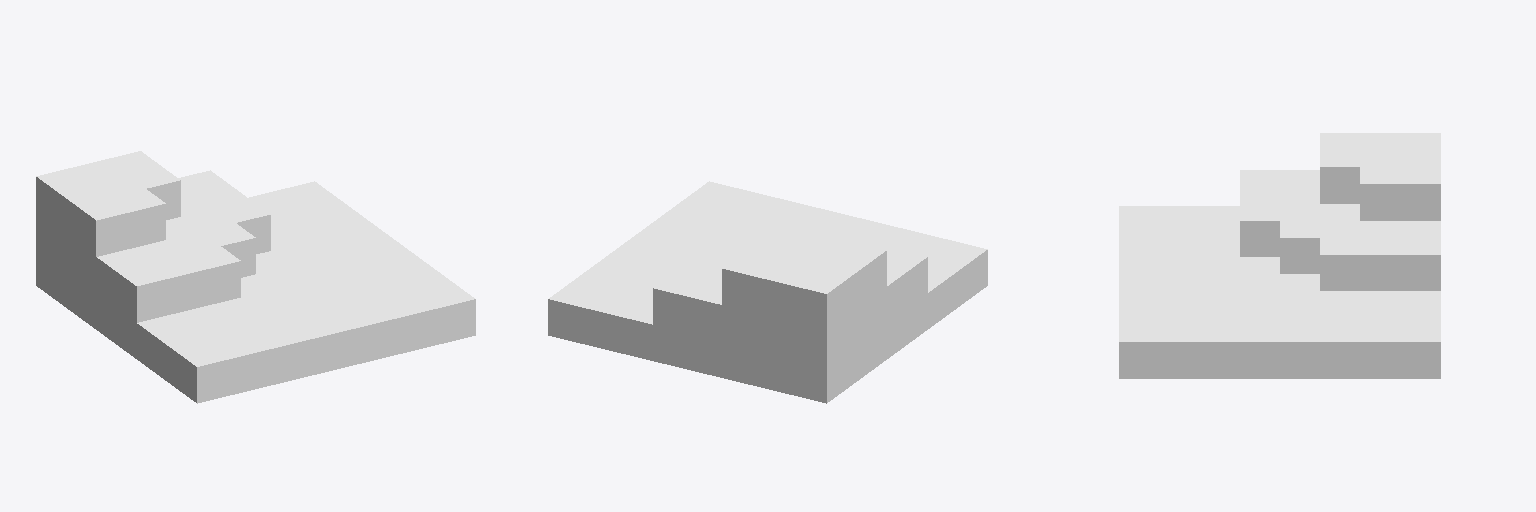
File: beach_corner_180.obj
The picture shows the model from 3 angles: view 1: azimuth 30°, elevation 25°; view 2: azimuth 150°, elevation 25°; view 3: azimuth 270°, elevation 25°; orthographic projection.
Visible parts, largest first — view 1: object 1; view 2: object 1; view 3: object 1.
Part boxes in pixels (x1,y1,x2,y2): object 1: (36,151,475,403); object 1: (548,181,987,403); object 1: (1119,133,1440,378).
Bounding box in the file's own units: 0.8 × 0.3 × 0.8.